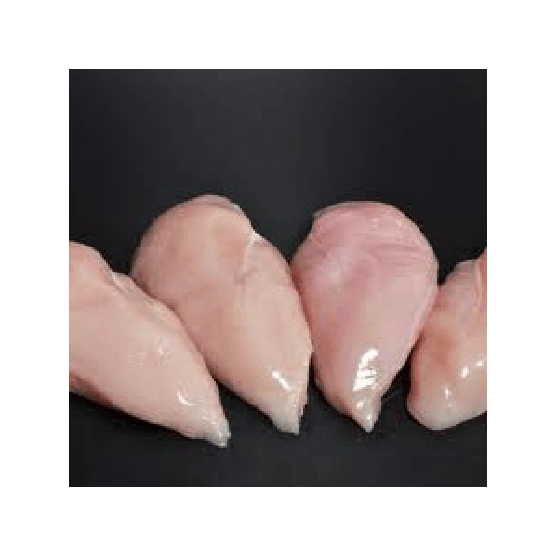chicken_fillet: (140, 185, 318, 440), (297, 196, 442, 434)
